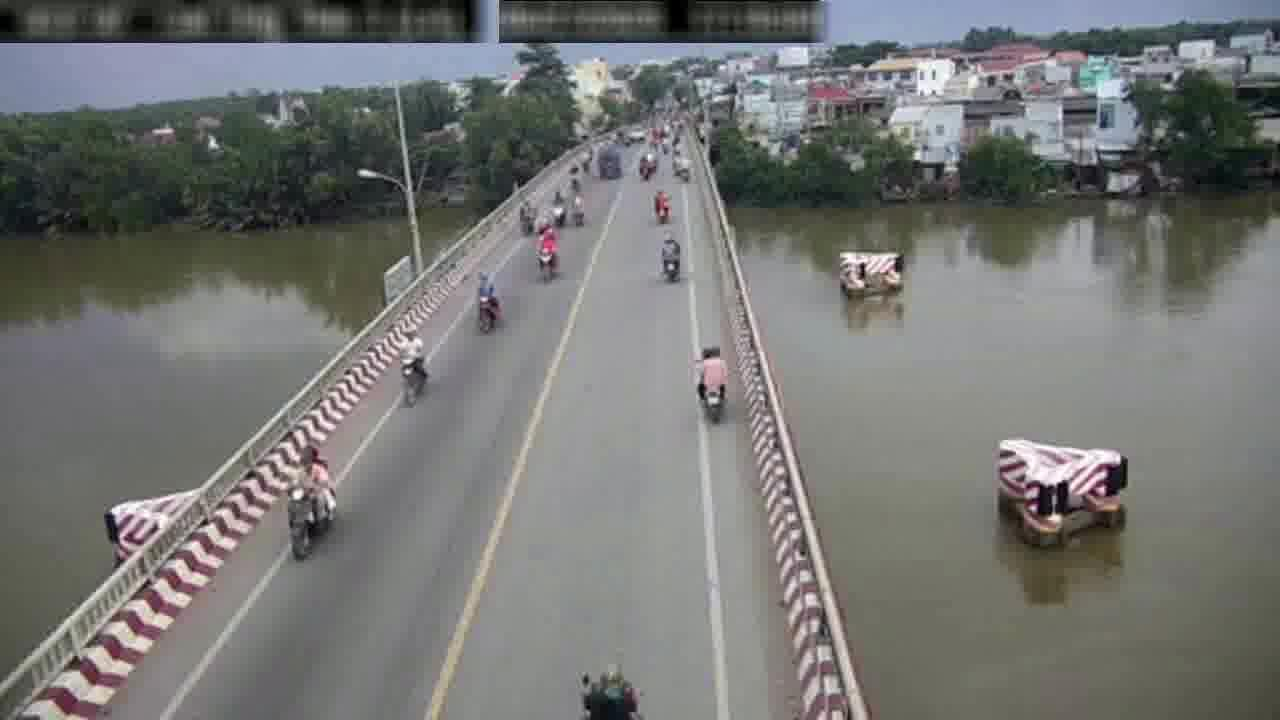motorbike: (283, 436, 341, 564), (694, 339, 730, 423), (394, 324, 426, 409), (474, 270, 502, 334), (657, 232, 681, 288), (534, 224, 557, 282)
